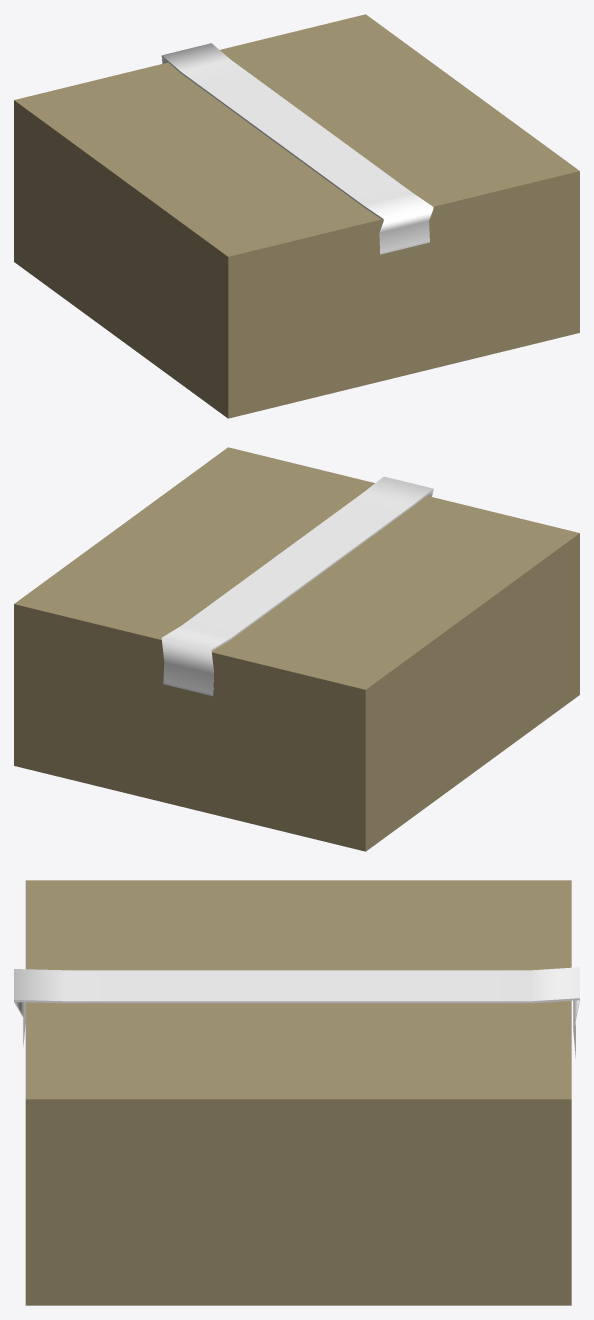
File: PS_CardboardBoxWTape5_14_DF.fbx
3 views of the same model, one above another, from view 1: azimuth 30°, elevation 25°; view 2: azimuth 150°, elevation 25°; view 3: azimuth 270°, elevation 25° (orthographic). The views are drawn at different scales.
Parts seen in each view (by area): view 1: CardboardBoxWTape5, Tape5; view 2: CardboardBoxWTape5, Tape5; view 3: CardboardBoxWTape5, Tape5.
Part boxes in pixels (x1,y1,x2,y2): CardboardBoxWTape5: [14, 14, 579, 418]; Tape5: [161, 43, 433, 254]; CardboardBoxWTape5: [14, 447, 579, 851]; Tape5: [161, 476, 433, 695]; CardboardBoxWTape5: [25, 880, 571, 1305]; Tape5: [14, 967, 579, 1058].
Size of the model in its own units: 0.3169 by 0.1441 by 0.3464.
